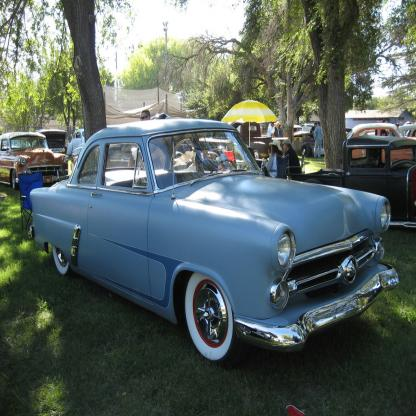Car: (1, 119, 416, 371)
